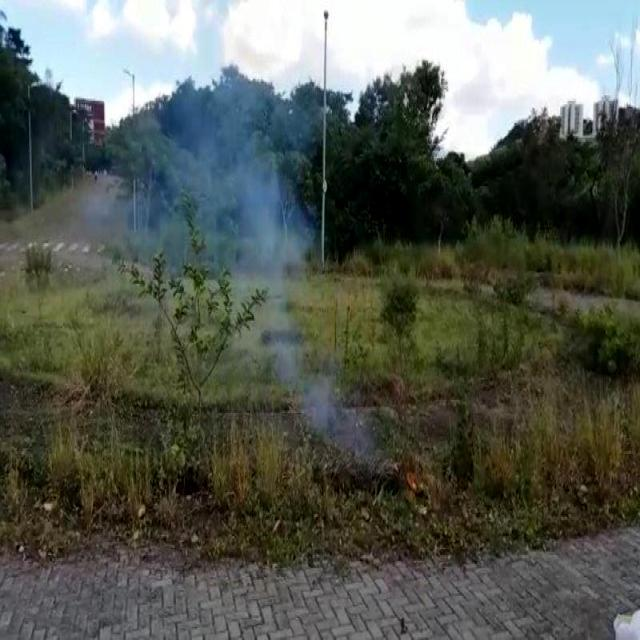Smoke: (127, 59, 313, 276), (270, 324, 366, 456)
